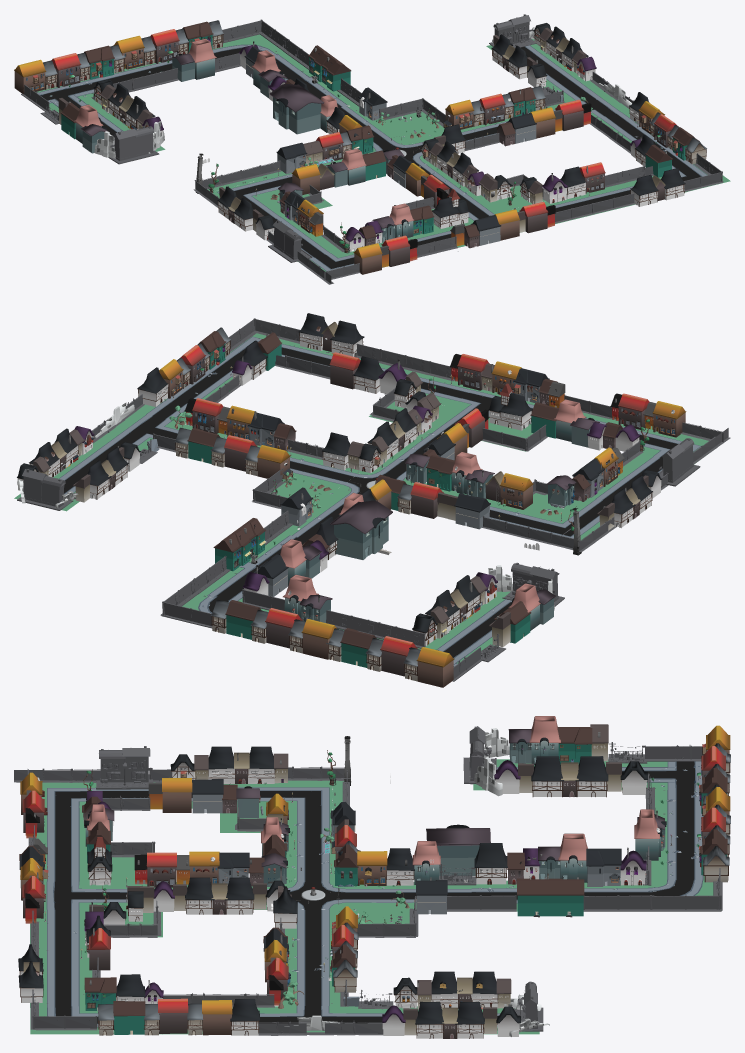
File: SecondLevel.glb
3 renders of one model, top to bottom at view 1: azimuth 30°, elevation 25°; view 2: azimuth 150°, elevation 25°; view 3: azimuth 270°, elevation 25°, orthographic. The views are drawn at different scales.
Visible parts, largest first — view 1: rubble_2.009, EA_Tr_Prop_Wall_Half_2b.002; view 2: rubble_2.009, EA_Tr_Prop_Wall_Half_2b.002; view 3: rubble_2.009, EA_Tr_Prop_Wall_Half_2b.002.
Part boxes in pixels (x1,y1,x2,y2): rubble_2.009: [193, 14, 730, 284]; EA_Tr_Prop_Wall_Half_2b.002: [14, 19, 361, 164]; rubble_2.009: [14, 313, 730, 555]; EA_Tr_Prop_Wall_Half_2b.002: [160, 500, 564, 687]; rubble_2.009: [14, 736, 549, 1038]; EA_Tr_Prop_Wall_Half_2b.002: [426, 716, 730, 917].
Bounding box in the file's own units: 426 × 56.25 × 449.
26 materials, 1 textured.
